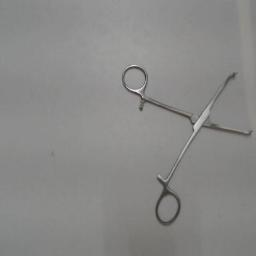Allis Tissue Forceps: (118, 59, 254, 231)
